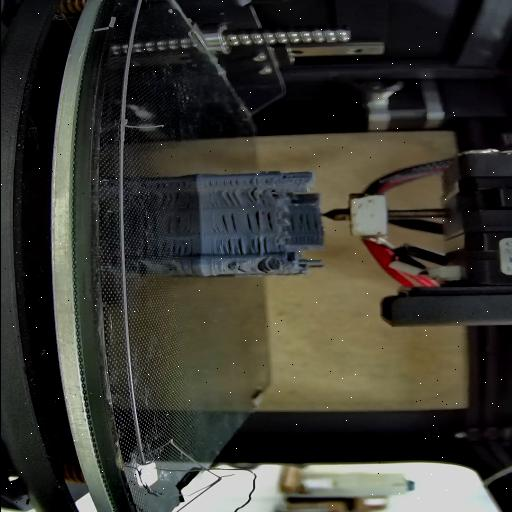cracks: (243, 210, 273, 234), (288, 212, 318, 234), (210, 212, 236, 234), (202, 179, 270, 187), (214, 238, 244, 256), (211, 190, 240, 208), (248, 236, 272, 254), (246, 188, 266, 206), (256, 258, 276, 274), (228, 262, 248, 272), (280, 174, 292, 182)
